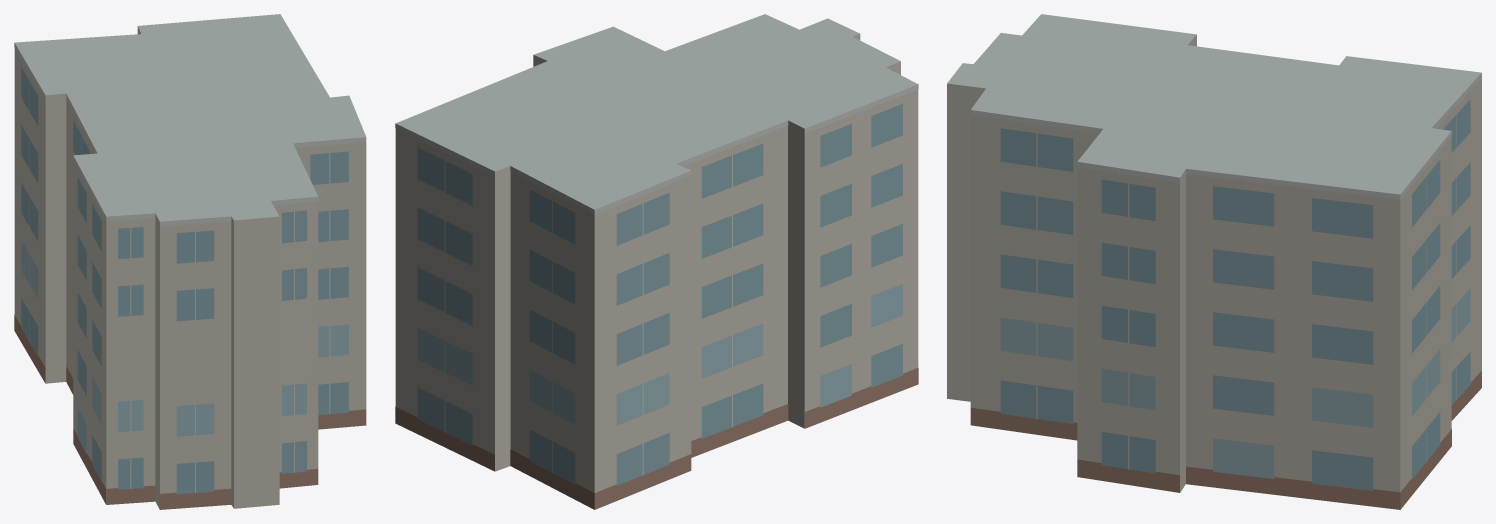
Rendered from survey-upis-32821434.glb.
3 renders of one model, left to right at view 1: azimuth 30°, elevation 25°; view 2: azimuth 150°, elevation 25°; view 3: azimuth 270°, elevation 25°, orthographic. The views are drawn at different scales.
Parts seen in each view (by area): view 1: survey-upis-32821434.tmp; view 2: survey-upis-32821434.tmp; view 3: survey-upis-32821434.tmp.
Boxes of the visible parts, x1,y1,x2,y2 form: survey-upis-32821434.tmp: (14, 14, 366, 509); survey-upis-32821434.tmp: (395, 14, 918, 509); survey-upis-32821434.tmp: (947, 14, 1481, 509).
Bounding box in the file's own units: 17.69 × 14.4 × 22.14.
